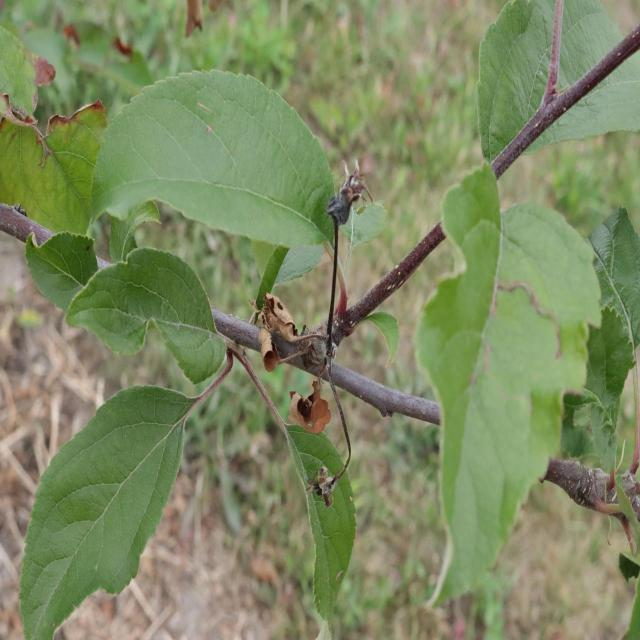-FireBlight-: (245, 292, 336, 438)
